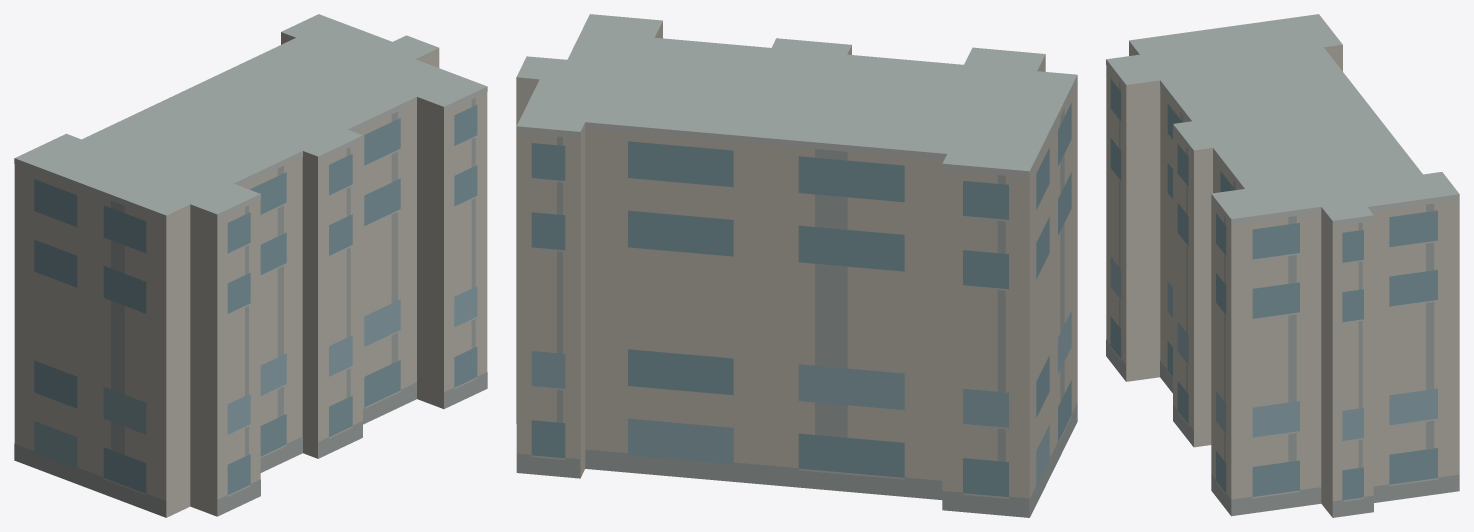
The model's file is residential-eef00834-afd9-4743-82f0-dbe9d21054b1.glb.
3 views of the same model, side by side, from view 1: azimuth 30°, elevation 25°; view 2: azimuth 150°, elevation 25°; view 3: azimuth 270°, elevation 25° (orthographic). The views are drawn at different scales.
Parts seen in each view (by area): view 1: residential-eef00834-afd9-4743-82f0-dbe9d21054b1.tmp; view 2: residential-eef00834-afd9-4743-82f0-dbe9d21054b1.tmp; view 3: residential-eef00834-afd9-4743-82f0-dbe9d21054b1.tmp.
Part boxes in pixels (x1,y1,x2,y2): residential-eef00834-afd9-4743-82f0-dbe9d21054b1.tmp: (14, 14, 487, 517); residential-eef00834-afd9-4743-82f0-dbe9d21054b1.tmp: (516, 14, 1077, 517); residential-eef00834-afd9-4743-82f0-dbe9d21054b1.tmp: (1106, 14, 1459, 517).
Size of the model in its own units: 19.11 by 12.77 by 13.79.
